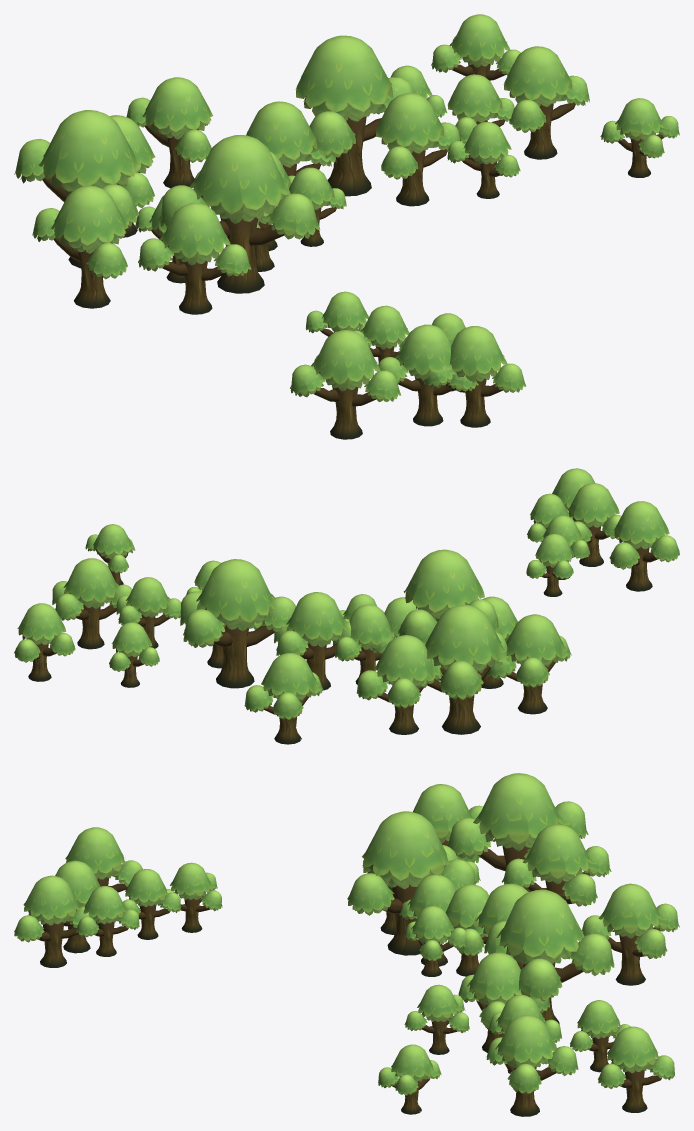
Rendered from Stylized-Tree.fbx.
The picture shows the model from 3 angles, top to bottom: view 1: azimuth 30°, elevation 25°; view 2: azimuth 150°, elevation 25°; view 3: azimuth 270°, elevation 25°; orthographic projection. The views are drawn at different scales.
Visible parts, largest first — view 1: Cylinder.005_Material.001_0.015, Cylinder.005_Material.001_0.025, Cylinder.005_Material.001_0.040, Cylinder.005_Material.001_0.039, Cylinder.005_Material.001_0.012, Cylinder.005_Material.001_0.001, Cylinder.005_Material.001_0.027, Cylinder.005_Material.001_0.019, Cylinder.005_Material.001_0.042, Cylinder.005_Material.001_0.007, Cylinder.005_Material.001_0.008, Cylinder.005_Material.001_0.009 (+10 smaller); view 2: Cylinder.005_Material.001_0.025, Cylinder.005_Material.001_0.040, Cylinder.005_Material.001_0.015, Cylinder.005_Material.001_0.043, Cylinder.005_Material.001_0.039, Cylinder.005_Material.001_0.027, Cylinder.005_Material.001_0.024, Cylinder.005_Material.001_0.042, Cylinder.005_Material.001_0.001, Cylinder.005_Material.001_0.009, Cylinder.005_Material.001_0.008, Cylinder.005_Material.001_0.029 (+10 smaller); view 3: Cylinder.005_Material.001_0.025, Cylinder.005_Material.001_0.015, Cylinder.005_Material.001_0.040, Cylinder.005_Material.001_0.043, Cylinder.005_Material.001_0.042, Cylinder.005_Material.001_0.027, Cylinder.005_Material.001_0.007, Cylinder.005_Material.001_0.009, Cylinder.005_Material.001_0.019, Cylinder.005_Material.001_0.001, Cylinder.005_Material.001_0.017, Cylinder.005_Material.001_0.005 (+11 smaller).
Part boxes in pixels (box(x1,y1,x2,y2)): Cylinder.005_Material.001_0.015: box(159, 135, 320, 293); Cylinder.005_Material.001_0.025: box(295, 35, 413, 196); Cylinder.005_Material.001_0.040: box(14, 110, 139, 268); Cylinder.005_Material.001_0.039: box(32, 185, 128, 308); Cylinder.005_Material.001_0.012: box(138, 203, 251, 314); Cylinder.005_Material.001_0.001: box(290, 330, 400, 439); Cylinder.005_Material.001_0.027: box(503, 46, 589, 159); Cylinder.005_Material.001_0.019: box(376, 93, 460, 206); Cylinder.005_Material.001_0.042: box(126, 77, 213, 188); Cylinder.005_Material.001_0.007: box(424, 326, 526, 427); Cylinder.005_Material.001_0.008: box(378, 324, 478, 426); Cylinder.005_Material.001_0.009: box(431, 14, 520, 80); Cylinder.005_Material.001_0.025: box(180, 559, 295, 688); Cylinder.005_Material.001_0.040: box(415, 604, 511, 734); Cylinder.005_Material.001_0.015: box(398, 549, 498, 680); Cylinder.005_Material.001_0.043: box(356, 635, 442, 734); Cylinder.005_Material.001_0.039: box(487, 614, 571, 714); Cylinder.005_Material.001_0.027: box(52, 558, 132, 649); Cylinder.005_Material.001_0.024: box(274, 592, 361, 690); Cylinder.005_Material.001_0.042: box(244, 653, 323, 744); Cylinder.005_Material.001_0.001: box(609, 501, 679, 591); Cylinder.005_Material.001_0.009: box(14, 603, 75, 681); Cylinder.005_Material.001_0.008: box(568, 483, 621, 566); Cylinder.005_Material.001_0.029: box(116, 577, 180, 648); Cylinder.005_Material.001_0.025: box(484, 889, 614, 1024); Cylinder.005_Material.001_0.015: box(347, 811, 475, 955); Cylinder.005_Material.001_0.040: box(447, 773, 588, 891); Cylinder.005_Material.001_0.043: box(502, 824, 611, 906); Cylinder.005_Material.001_0.042: box(582, 883, 679, 985); Cylinder.005_Material.001_0.027: box(486, 1015, 578, 1116); Cylinder.005_Material.001_0.007: box(14, 875, 95, 967); Cylinder.005_Material.001_0.009: box(598, 1026, 675, 1112); Cylinder.005_Material.001_0.019: box(458, 952, 549, 1052); Cylinder.005_Material.001_0.001: box(65, 827, 142, 924); Cylinder.005_Material.001_0.017: box(404, 984, 469, 1054); Cylinder.005_Material.001_0.005: box(76, 886, 139, 956).
Size of the model in its own units: 1794 by 433 by 1918.
Materials: 1 (1 with a texture image).
